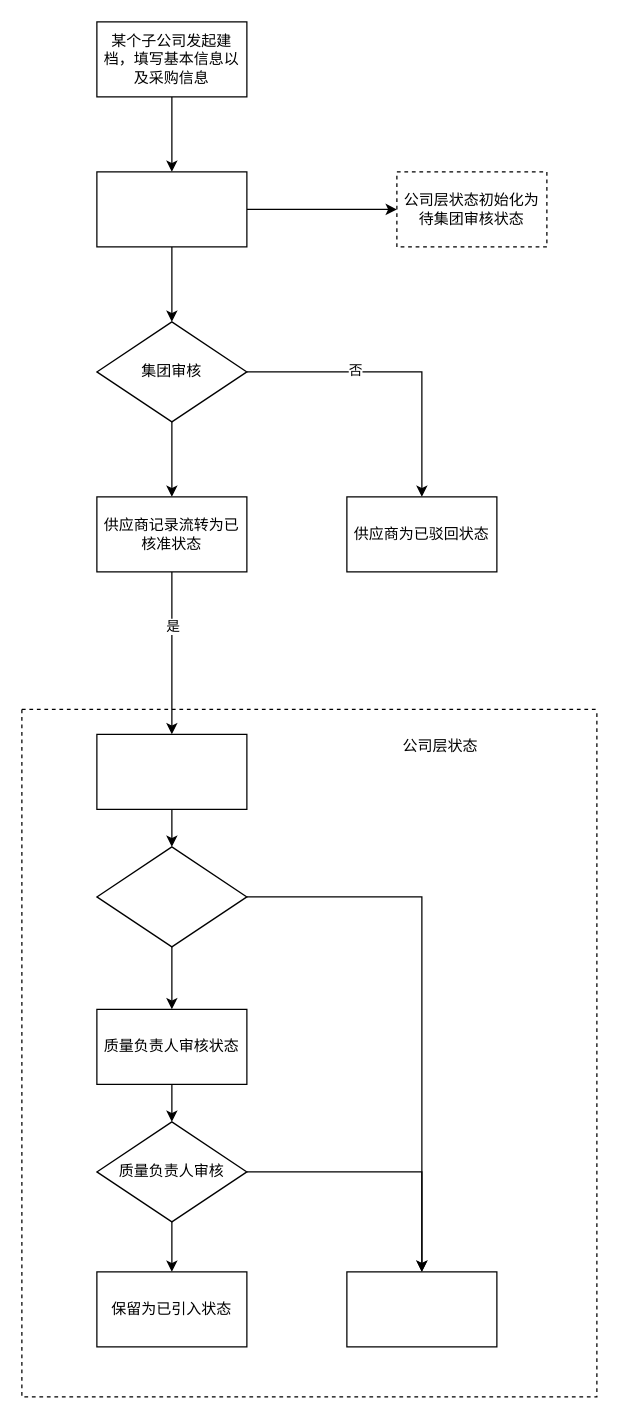
Image size: 619x1419. Some labels were removed from this diagram. The shapes that lost their labels are listed below. From the top down, each one's centre as x and y in pixels, then its label:
point 171,209: 供应商记录初始化为建档待审核状态
point 171,771: 公司层状态设置为首营审核状态
point 171,896: 子公司质管部审核
point 421,1309: 删除此公司的采购信息，变成未引入状态
